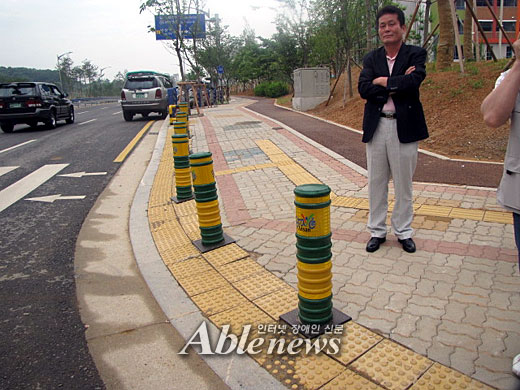guide_blocks: (270, 324, 492, 390), (164, 243, 298, 315), (333, 195, 513, 226), (151, 177, 203, 240), (257, 139, 317, 182), (161, 133, 187, 176), (212, 159, 297, 172)
